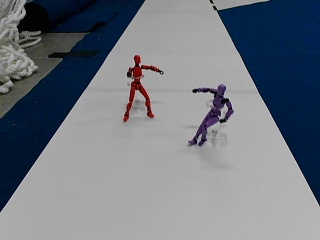pedestrian: (189, 82, 232, 145), (123, 55, 163, 120)
